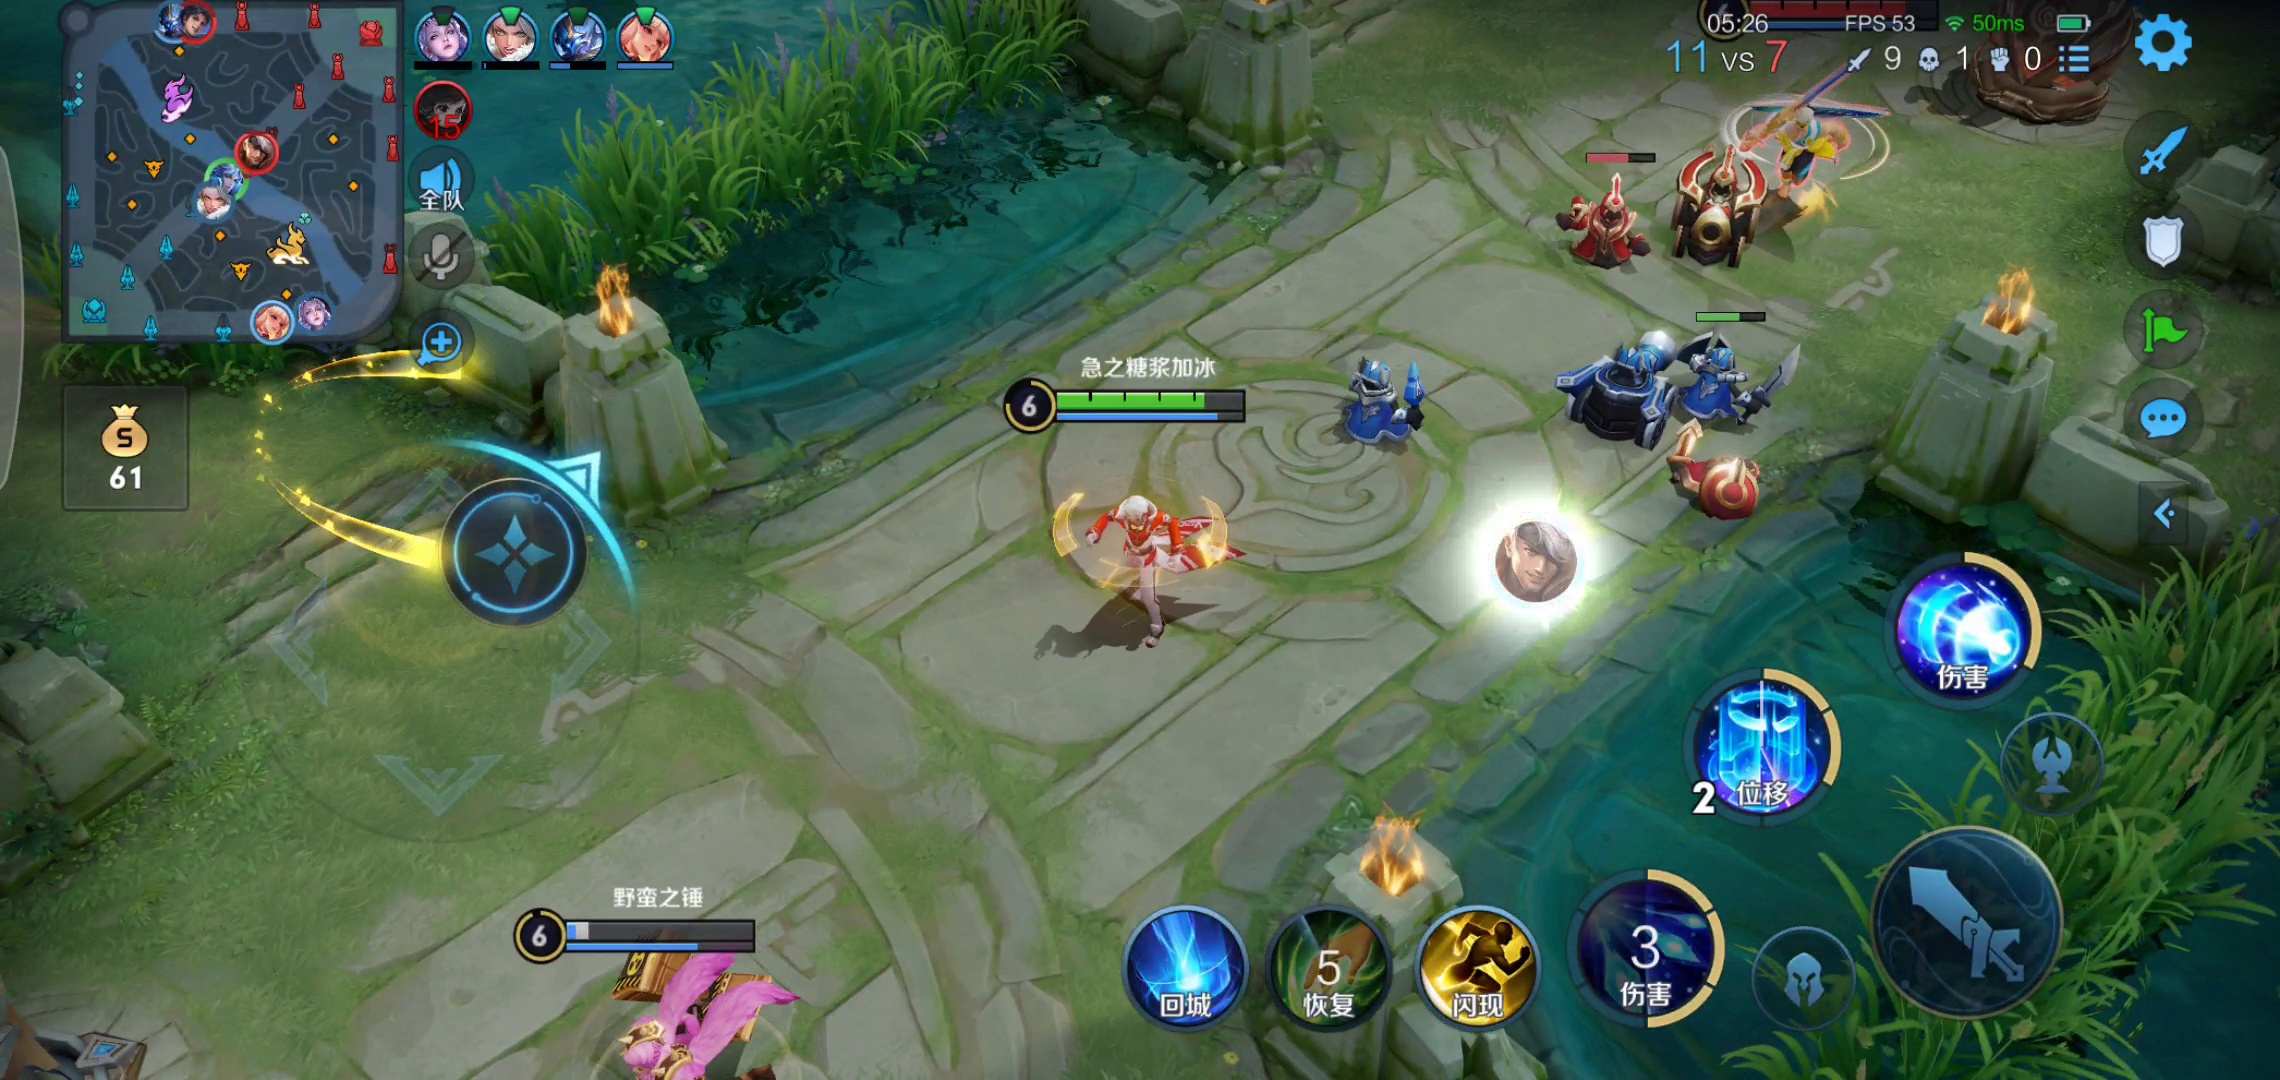grass: (1787, 555, 2276, 1079), (474, 6, 1079, 331)
hero: (1041, 459, 1253, 645), (573, 952, 824, 1080), (1749, 90, 1887, 219)
soldier: (1556, 323, 1693, 443), (1328, 331, 1438, 468), (1538, 172, 1666, 285), (1681, 314, 1799, 427), (1659, 154, 1764, 265), (1684, 429, 1775, 536)
tower: (1959, 1, 2158, 138)
